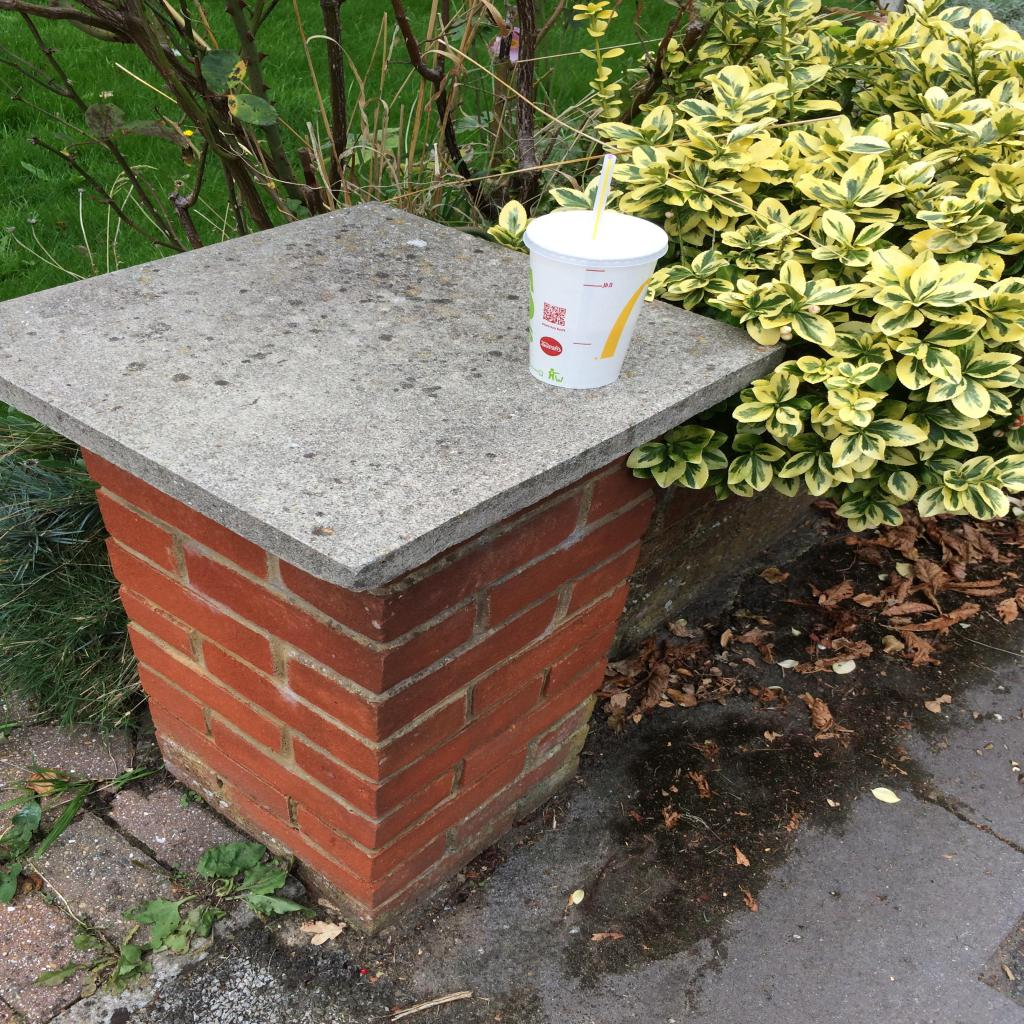Paper cup: (530, 249, 658, 389)
Plastic lid: (522, 210, 668, 268)
Plastic straw: (586, 154, 616, 240)
